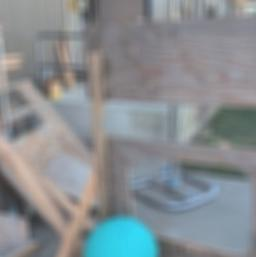algae: (87, 217, 157, 257)
